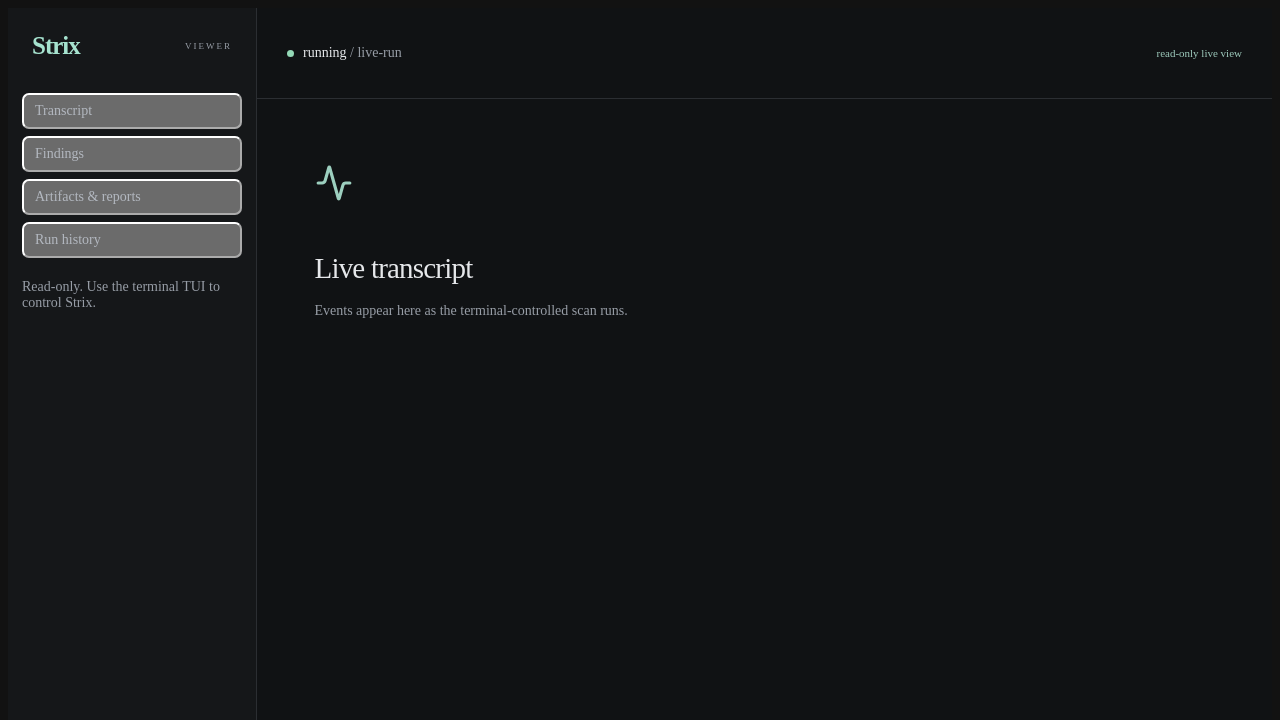
Scenario: run history remains browsable without mutation requests
Click the button "Run history" at [132, 240], box [22,222,242,258]
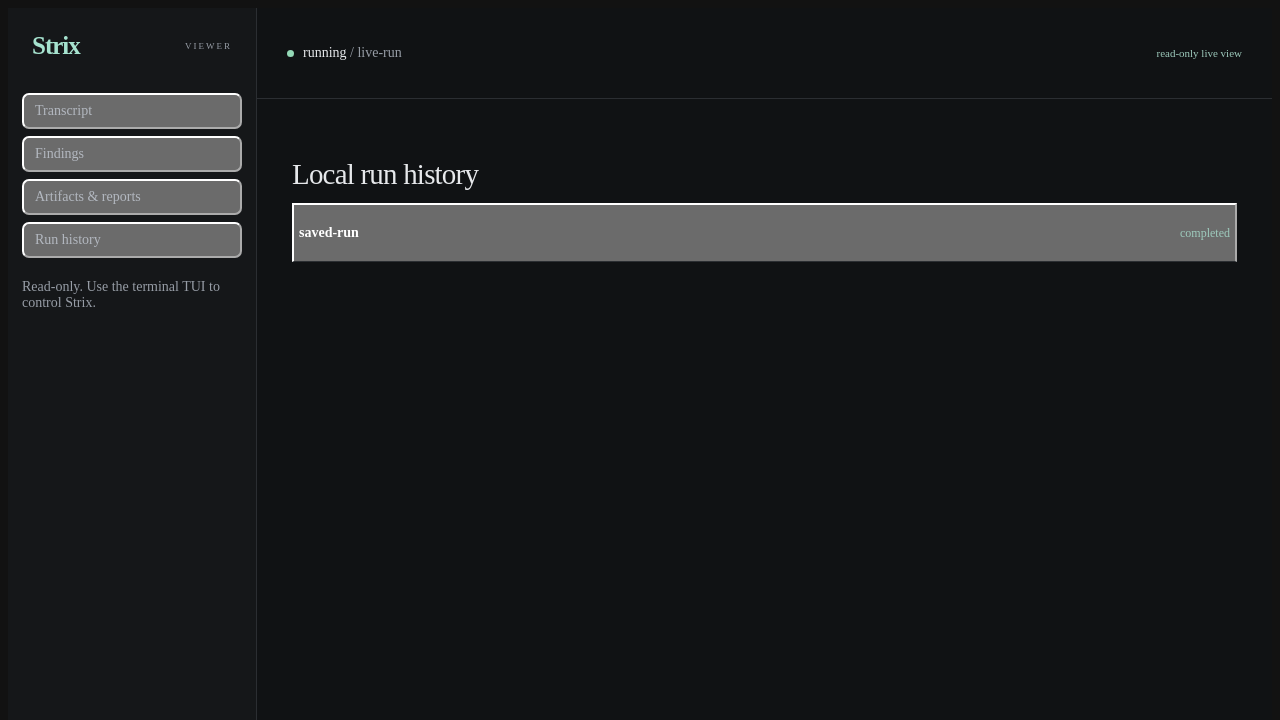
Now the button "saved-run completed" is shown, box [292,203,1237,262]
